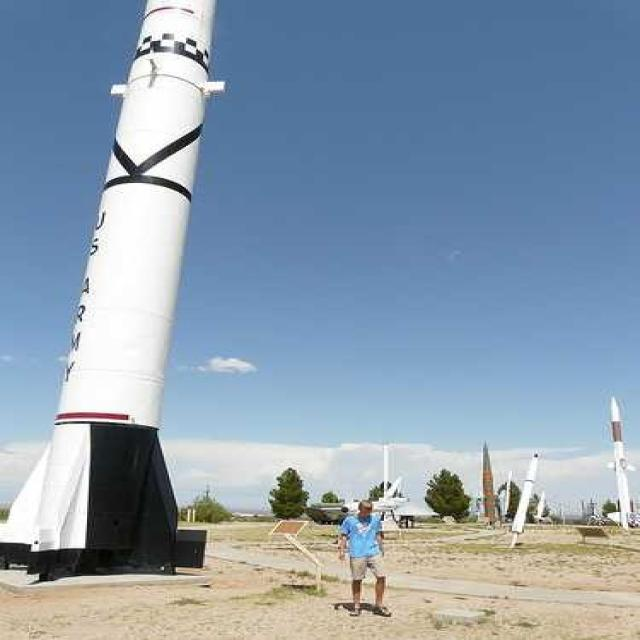missile: (11, 0, 212, 572)
